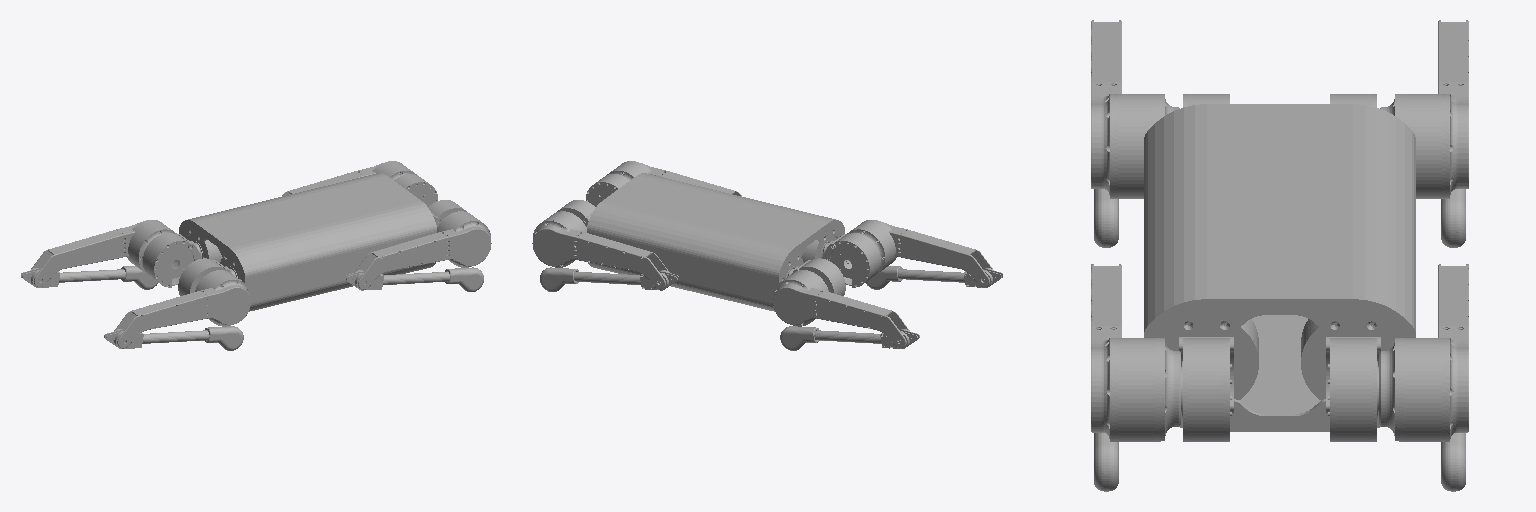
--- Facts derived from the render (not from the file) ---
Views: 3 orthographic renders of the robot side by side, from view 1: azimuth 30°, elevation 25°; view 2: azimuth 150°, elevation 25°; view 3: azimuth 270°, elevation 25°.
Model Nomad with 25 links and 24 joints (12 continuous, 12 fixed), rooted at base_link, posed all joints at 0.
Visible links, largest first — view 1: base_link, upper_leg_RR_link1, upper_leg_FR_link1, upper_leg_RL_link1, hfe_RL_link1, lower_leg_RL_link1, lower_leg_FR_link1, lower_leg_RR_link1, kfe_RL_link1, hfe_RR_link1, hfe_FL_link1, foot_RR1 (+2 smaller); view 2: base_link, upper_leg_RL_link1, upper_leg_FL_link1, upper_leg_RR_link1, hfe_RR_link1, lower_leg_RR_link1, lower_leg_FL_link1, lower_leg_RL_link1, kfe_RR_link1, hfe_RL_link1, hfe_FR_link1, foot_RL1 (+2 smaller); view 3: base_link, kfe_FL_link1, kfe_FR_link1, hfe_FL_link1, hfe_FR_link1, upper_leg_RL_link1, upper_leg_RR_link1, upper_leg_FL_link1, upper_leg_FR_link1, kfe_RL_link1, kfe_RR_link1, haa_FR_link1 (+5 smaller).
Boxes of the visible links, box(x1,y1,x2,y2) form: base_link: box(179, 173, 436, 311); upper_leg_RR_link1: box(114, 279, 250, 348); upper_leg_FR_link1: box(354, 220, 491, 289); upper_leg_RL_link1: box(31, 220, 161, 286); hfe_RL_link1: box(143, 233, 200, 287); lower_leg_RL_link1: box(21, 268, 125, 287); lower_leg_FR_link1: box(345, 270, 449, 290); lower_leg_RR_link1: box(104, 329, 209, 348); kfe_RL_link1: box(128, 220, 176, 273); hfe_RR_link1: box(178, 258, 235, 295); hfe_FL_link1: box(394, 174, 437, 206); foot_RR1: box(205, 326, 243, 350); base_link: box(587, 173, 844, 311); upper_leg_RL_link1: box(773, 279, 909, 348); upper_leg_FL_link1: box(532, 220, 669, 289); upper_leg_RR_link1: box(862, 220, 992, 286); hfe_RR_link1: box(823, 233, 880, 287); lower_leg_RR_link1: box(898, 268, 1002, 287); lower_leg_FL_link1: box(574, 270, 678, 290); lower_leg_RL_link1: box(814, 329, 919, 348); kfe_RR_link1: box(847, 220, 895, 273); hfe_RL_link1: box(788, 258, 845, 295); hfe_FR_link1: box(586, 174, 629, 206); foot_RL1: box(780, 326, 818, 350); base_link: box(1144, 104, 1415, 431); kfe_FL_link1: box(1379, 338, 1445, 441); kfe_FR_link1: box(1114, 338, 1180, 441); hfe_FL_link1: box(1326, 337, 1380, 441); hfe_FR_link1: box(1179, 337, 1233, 441); upper_leg_RL_link1: box(1438, 20, 1468, 198); upper_leg_RR_link1: box(1091, 20, 1121, 198); upper_leg_FL_link1: box(1438, 264, 1468, 441); upper_leg_FR_link1: box(1091, 264, 1121, 441); kfe_RL_link1: box(1380, 94, 1445, 198); kfe_RR_link1: box(1114, 94, 1179, 198); haa_FR_link1: box(1169, 319, 1258, 399).
Size in the robot's own frame: 0.8852 by 0.361 by 0.1722 metres.
Meshes: 25 distinct files referenced, 25 mesh visuals loaded (25 binary STL).

robot.urdf — Nomad:
<?xml version="1.0" ?>
<robot name="Nomad">

<material name="silver">
  <color rgba="0.700 0.700 0.700 1.000"/>
</material>

<link name="base_link">
  <inertial>
    <origin rpy="0 0 0" xyz="0.22000000000000136 6.474201759937558e-16 -1.4511141875722118e-16"/>
    <mass value="2.199913990617033"/>
    <inertia ixx="0.024540687238520258" ixy="2.976230462081749e-16" ixz="6.335540092550173e-17" iyy="0.058446211097636744" iyz="-6.2864273786545e-17" izz="0.06916812540146265"/>
  </inertial>
  <visual>
    <origin rpy="0 0 0" xyz="0 0 0"/>
    <geometry>
      <mesh filename="meshes/base_link.stl" scale="0.001 0.001 0.001"/>
    </geometry>
    <material name="silver"/>
  </visual>
  <collision>
    <origin rpy="0 0 0" xyz="0 0 0"/>
    <geometry>
      <mesh filename="meshes/base_link.stl" scale="0.001 0.001 0.001"/>
    </geometry>
  </collision>
</link>

<link name="hfe_FL_link1">
  <inertial>
    <origin rpy="0 0 0" xyz="0.04837811944868137 0.004377456626079371 0.00042958181475172464"/>
    <mass value="0.2875872093499024"/>
    <inertia ixx="0.00028035492431676724" ixy="-1.2113045801185121e-05" ixz="-1.1887313311722124e-06" iyy="0.00047388103986391317" iyz="3.0511493607548857e-06" izz="0.00036132170347868975"/>
  </inertial>
  <visual>
    <origin rpy="0 0 0" xyz="-0.437 -0.07 -0.0"/>
    <geometry>
      <mesh filename="meshes/hfe_FL_link1.stl" scale="0.001 0.001 0.001"/>
    </geometry>
    <material name="silver"/>
  </visual>
  <collision>
    <origin rpy="0 0 0" xyz="-0.437 -0.07 -0.0"/>
    <geometry>
      <mesh filename="meshes/hfe_FL_link1.stl" scale="0.001 0.001 0.001"/>
    </geometry>
  </collision>
</link>

<link name="hfe_FR_link1">
  <inertial>
    <origin rpy="0 0 0" xyz="0.048378119448682644 -0.004377456626069198 0.0004295818147517494"/>
    <mass value="0.28758720934990234"/>
    <inertia ixx="0.00028035492431676095" ixy="1.2113045801145222e-05" ixz="-1.1887313311704505e-06" iyy="0.00047388103986391317" iyz="-3.0511493607544283e-06" izz="0.000361321703478662"/>
  </inertial>
  <visual>
    <origin rpy="0 0 0" xyz="-0.437 0.07 -0.0"/>
    <geometry>
      <mesh filename="meshes/hfe_FR_link1.stl" scale="0.001 0.001 0.001"/>
    </geometry>
    <material name="silver"/>
  </visual>
  <collision>
    <origin rpy="0 0 0" xyz="-0.437 0.07 -0.0"/>
    <geometry>
      <mesh filename="meshes/hfe_FR_link1.stl" scale="0.001 0.001 0.001"/>
    </geometry>
  </collision>
</link>

<link name="hfe_RL_link1">
  <inertial>
    <origin rpy="0 0 0" xyz="-0.04837811944868167 0.004377456626079482 0.000429581814751721"/>
    <mass value="0.28758720934990234"/>
    <inertia ixx="0.0002803549243167681" ixy="1.2113045801184362e-05" ixz="1.1887313311715788e-06" iyy="0.0004738810398638944" iyz="3.0511493607541996e-06" izz="0.00036132170347864985"/>
  </inertial>
  <visual>
    <origin rpy="0 0 0" xyz="-0.003 -0.07 -0.0"/>
    <geometry>
      <mesh filename="meshes/hfe_RL_link1.stl" scale="0.001 0.001 0.001"/>
    </geometry>
    <material name="silver"/>
  </visual>
  <collision>
    <origin rpy="0 0 0" xyz="-0.003 -0.07 -0.0"/>
    <geometry>
      <mesh filename="meshes/hfe_RL_link1.stl" scale="0.001 0.001 0.001"/>
    </geometry>
  </collision>
</link>

<link name="hfe_RR_link1">
  <inertial>
    <origin rpy="0 0 0" xyz="-0.048378119448681915 -0.004377456626079287 0.00042958181475161167"/>
    <mass value="0.2875872093499024"/>
    <inertia ixx="0.00028035492431676616" ixy="-1.2113045801184254e-05" ixz="1.1887313311717406e-06" iyy="0.00047388103986389224" iyz="-3.051149360754774e-06" izz="0.00036132170347864465"/>
  </inertial>
  <visual>
    <origin rpy="0 0 0" xyz="-0.003 0.07 -0.0"/>
    <geometry>
      <mesh filename="meshes/hfe_RR_link1.stl" scale="0.001 0.001 0.001"/>
    </geometry>
    <material name="silver"/>
  </visual>
  <collision>
    <origin rpy="0 0 0" xyz="-0.003 0.07 -0.0"/>
    <geometry>
      <mesh filename="meshes/hfe_RR_link1.stl" scale="0.001 0.001 0.001"/>
    </geometry>
  </collision>
</link>

<link name="kfe_FL_link1">
  <inertial>
    <origin rpy="0 0 0" xyz="-4.294509414748404e-09 0.03773393377276327 0.002519589484959846"/>
    <mass value="0.30243979231772933"/>
    <inertia ixx="0.0003497304817030901" ixy="-1.282339859298709e-11" ixz="-4.266157636574966e-11" iyy="0.00043307576818708837" iyz="1.8640860725916198e-05" izz="0.000375943096624462"/>
  </inertial>
  <visual>
    <origin rpy="0 0 0" xyz="-0.495 -0.0945 -0.0"/>
    <geometry>
      <mesh filename="meshes/kfe_FL_link1.stl" scale="0.001 0.001 0.001"/>
    </geometry>
    <material name="silver"/>
  </visual>
  <collision>
    <origin rpy="0 0 0" xyz="-0.495 -0.0945 -0.0"/>
    <geometry>
      <mesh filename="meshes/kfe_FL_link1.stl" scale="0.001 0.001 0.001"/>
    </geometry>
  </collision>
</link>

<link name="kfe_RL_link1">
  <inertial>
    <origin rpy="0 0 0" xyz="-4.29448054201087e-09 0.03773393377276335 0.002519589484959765"/>
    <mass value="0.30243979231772933"/>
    <inertia ixx="0.00034973048170309183" ixy="-1.2823362597474963e-11" ixz="-4.266156855949402e-11" iyy="0.00043307576818707536" iyz="1.8640860725916143e-05" izz="0.00037594309662444293"/>
  </inertial>
  <visual>
    <origin rpy="0 0 0" xyz="0.055 -0.0945 0.0"/>
    <geometry>
      <mesh filename="meshes/kfe_RL_link1.stl" scale="0.001 0.001 0.001"/>
    </geometry>
    <material name="silver"/>
  </visual>
  <collision>
    <origin rpy="0 0 0" xyz="0.055 -0.0945 0.0"/>
    <geometry>
      <mesh filename="meshes/kfe_RL_link1.stl" scale="0.001 0.001 0.001"/>
    </geometry>
  </collision>
</link>

<link name="kfe_RR_link1">
  <inertial>
    <origin rpy="0 0 0" xyz="-2.412151062225476e-09 -0.037733893842588156 0.0025195550596708045"/>
    <mass value="0.30244037793017975"/>
    <inertia ixx="0.00034973125766345724" ixy="3.02635867754919e-12" ixz="-4.464371430992547e-11" iyy="0.0004330769667441327" iyz="-1.8640648087141513e-05" izz="0.0003759440161624191"/>
  </inertial>
  <visual>
    <origin rpy="0 0 0" xyz="0.055 0.0945 0.0"/>
    <geometry>
      <mesh filename="meshes/kfe_RR_link1.stl" scale="0.001 0.001 0.001"/>
    </geometry>
    <material name="silver"/>
  </visual>
  <collision>
    <origin rpy="0 0 0" xyz="0.055 0.0945 0.0"/>
    <geometry>
      <mesh filename="meshes/kfe_RR_link1.stl" scale="0.001 0.001 0.001"/>
    </geometry>
  </collision>
</link>

<link name="kfe_FR_link1">
  <inertial>
    <origin rpy="0 0 0" xyz="-2.4121666886145476e-09 -0.03773389384257603 0.0025195550596710083"/>
    <mass value="0.30244037793017975"/>
    <inertia ixx="0.00034973125766345117" ixy="3.026377759507426e-12" ixz="-4.464371824693461e-11" iyy="0.0004330769667441198" iyz="-1.8640648087142083e-05" izz="0.00037594401616238005"/>
  </inertial>
  <visual>
    <origin rpy="0 0 0" xyz="-0.495 0.0945 -0.0"/>
    <geometry>
      <mesh filename="meshes/kfe_FR_link1.stl" scale="0.001 0.001 0.001"/>
    </geometry>
    <material name="silver"/>
  </visual>
  <collision>
    <origin rpy="0 0 0" xyz="-0.495 0.0945 -0.0"/>
    <geometry>
      <mesh filename="meshes/kfe_FR_link1.stl" scale="0.001 0.001 0.001"/>
    </geometry>
  </collision>
</link>

<link name="upper_leg_FL_link1">
  <inertial>
    <origin rpy="0 0 0" xyz="-0.09245282024220741 0.008509257496139039 0.007352742155619165"/>
    <mass value="0.28719650938086905"/>
    <inertia ixx="0.00017089800270464993" ixy="-3.85577543140711e-05" ixz="3.801746306691673e-05" iyy="0.0020438269196165967" iyz="2.0596488784542792e-06" izz="0.0019434884605858752"/>
  </inertial>
  <visual>
    <origin rpy="0 0 0" xyz="-0.495 -0.1585 0.0"/>
    <geometry>
      <mesh filename="meshes/upper_leg_FL_link1.stl" scale="0.001 0.001 0.001"/>
    </geometry>
    <material name="silver"/>
  </visual>
  <collision>
    <origin rpy="0 0 0" xyz="-0.495 -0.1585 0.0"/>
    <geometry>
      <mesh filename="meshes/upper_leg_FL_link1.stl" scale="0.001 0.001 0.001"/>
    </geometry>
  </collision>
</link>

<link name="upper_leg_RL_link1">
  <inertial>
    <origin rpy="0 0 0" xyz="-0.09245282024215762 0.008509257496255862 0.007352742155619182"/>
    <mass value="0.28719650938086905"/>
    <inertia ixx="0.00017089800270454931" ixy="-3.855775431170407e-05" ixz="3.801746306691955e-05" iyy="0.0020438269196166904" iyz="2.059648878406466e-06" izz="0.0019434884605858647"/>
  </inertial>
  <visual>
    <origin rpy="0 0 0" xyz="0.055 -0.1585 -0.0"/>
    <geometry>
      <mesh filename="meshes/upper_leg_RL_link1.stl" scale="0.001 0.001 0.001"/>
    </geometry>
    <material name="silver"/>
  </visual>
  <collision>
    <origin rpy="0 0 0" xyz="0.055 -0.1585 -0.0"/>
    <geometry>
      <mesh filename="meshes/upper_leg_RL_link1.stl" scale="0.001 0.001 0.001"/>
    </geometry>
  </collision>
</link>

<link name="upper_leg_RR_link1">
  <inertial>
    <origin rpy="0 0 0" xyz="-0.09245274297568468 -0.008509288573373935 0.007351582415994544"/>
    <mass value="0.28719862886504943"/>
    <inertia ixx="0.00017097431453656949" ixy="3.8557824518435126e-05" ixz="3.80093216803399e-05" iyy="0.002043934929616572" iyz="-2.0611346655847063e-06" izz="0.0019435203664807579"/>
  </inertial>
  <visual>
    <origin rpy="0 0 0" xyz="0.055 0.1585 0.0"/>
    <geometry>
      <mesh filename="meshes/upper_leg_RR_link1.stl" scale="0.001 0.001 0.001"/>
    </geometry>
    <material name="silver"/>
  </visual>
  <collision>
    <origin rpy="0 0 0" xyz="0.055 0.1585 0.0"/>
    <geometry>
      <mesh filename="meshes/upper_leg_RR_link1.stl" scale="0.001 0.001 0.001"/>
    </geometry>
  </collision>
</link>

<link name="upper_leg_FR_link1">
  <inertial>
    <origin rpy="0 0 0" xyz="-0.09245274297570916 -0.008509288573324308 0.007351582415994245"/>
    <mass value="0.28719862886504943"/>
    <inertia ixx="0.00017097431453659898" ixy="3.8557824519207945e-05" ixz="3.80093216803386e-05" iyy="0.0020439349296165338" iyz="-2.0611346656004273e-06" izz="0.0019435203664807527"/>
  </inertial>
  <visual>
    <origin rpy="0 0 0" xyz="-0.495 0.1585 0.0"/>
    <geometry>
      <mesh filename="meshes/upper_leg_FR_link1.stl" scale="0.001 0.001 0.001"/>
    </geometry>
    <material name="silver"/>
  </visual>
  <collision>
    <origin rpy="0 0 0" xyz="-0.495 0.1585 0.0"/>
    <geometry>
      <mesh filename="meshes/upper_leg_FR_link1.stl" scale="0.001 0.001 0.001"/>
    </geometry>
  </collision>
</link>

<link name="lower_leg_FL_link1">
  <inertial>
    <origin rpy="0 0 0" xyz="0.03768917866084845 0.010859669260576715 -0.008756414766798302"/>
    <mass value="0.10027511378483192"/>
    <inertia ixx="2.4257456964952174e-05" ixy="-1.7649493646351017e-07" ixz="6.0654005374095096e-05" iyy="0.00034828592771582456" iyz="2.3843216718057517e-08" izz="0.0003325569543160944"/>
  </inertial>
  <visual>
    <origin rpy="0 0 0" xyz="-0.245723 -0.1545 0.019"/>
    <geometry>
      <mesh filename="meshes/lower_leg_FL_link1.stl" scale="0.001 0.001 0.001"/>
    </geometry>
    <material name="silver"/>
  </visual>
  <collision>
    <origin rpy="0 0 0" xyz="-0.245723 -0.1545 0.019"/>
    <geometry>
      <mesh filename="meshes/lower_leg_FL_link1.stl" scale="0.001 0.001 0.001"/>
    </geometry>
  </collision>
</link>

<link name="lower_leg_RL_link1">
  <inertial>
    <origin rpy="0 0 0" xyz="0.03768917866091476 0.010859669260778582 -0.008756414766798407"/>
    <mass value="0.10027511378483192"/>
    <inertia ixx="2.4257456964946536e-05" ixy="-1.7649493548946293e-07" ixz="6.0654005374095204e-05" iyy="0.00034828592771582803" iyz="2.384321653574892e-08" izz="0.0003325569543160961"/>
  </inertial>
  <visual>
    <origin rpy="0 0 0" xyz="0.304277 -0.1545 0.019"/>
    <geometry>
      <mesh filename="meshes/lower_leg_RL_link1.stl" scale="0.001 0.001 0.001"/>
    </geometry>
    <material name="silver"/>
  </visual>
  <collision>
    <origin rpy="0 0 0" xyz="0.304277 -0.1545 0.019"/>
    <geometry>
      <mesh filename="meshes/lower_leg_RL_link1.stl" scale="0.001 0.001 0.001"/>
    </geometry>
  </collision>
</link>

<link name="lower_leg_FR_link1">
  <inertial>
    <origin rpy="0 0 0" xyz="0.037689178660886086 -0.011140330739316723 -0.008756414766798285"/>
    <mass value="0.10027511378483192"/>
    <inertia ixx="2.425745696495044e-05" ixy="-1.764949357644166e-07" ixz="6.0654005374094553e-05" iyy="0.00034828592771582977" iyz="2.3843216587356945e-08" izz="0.0003325569543160944"/>
  </inertial>
  <visual>
    <origin rpy="0 0 0" xyz="-0.245723 0.1545 0.019"/>
    <geometry>
      <mesh filename="meshes/lower_leg_FR_link1.stl" scale="0.001 0.001 0.001"/>
    </geometry>
    <material name="silver"/>
  </visual>
  <collision>
    <origin rpy="0 0 0" xyz="-0.245723 0.1545 0.019"/>
    <geometry>
      <mesh filename="meshes/lower_leg_FR_link1.stl" scale="0.001 0.001 0.001"/>
    </geometry>
  </collision>
</link>

<link name="lower_leg_RR_link1">
  <inertial>
    <origin rpy="0 0 0" xyz="0.03768917866091659 -0.011140330739393495 -0.00875641476679826"/>
    <mass value="0.10027511378483192"/>
    <inertia ixx="2.425745696494697e-05" ixy="-1.7649493608273836e-07" ixz="6.0654005374094553e-05" iyy="0.00034828592771582456" iyz="2.3843216646717014e-08" izz="0.00033255695431609264"/>
  </inertial>
  <visual>
    <origin rpy="0 0 0" xyz="0.304277 0.1545 0.019"/>
    <geometry>
      <mesh filename="meshes/lower_leg_RR_link1.stl" scale="0.001 0.001 0.001"/>
    </geometry>
    <material name="silver"/>
  </visual>
  <collision>
    <origin rpy="0 0 0" xyz="0.304277 0.1545 0.019"/>
    <geometry>
      <mesh filename="meshes/lower_leg_RR_link1.stl" scale="0.001 0.001 0.001"/>
    </geometry>
  </collision>
</link>

<link name="haa_FR_link1">
  <inertial>
    <origin rpy="0 0 0" xyz="-0.016983261704377528 8.790073738329518e-09 0.0005413876110014399"/>
    <mass value="0.22819661408568134"/>
    <inertia ixx="0.000337396201269129" ixy="4.8251645734520565e-11" ixz="3.1919090569474247e-06" iyy="0.00022867987683110325" iyz="1.0859537874925154e-12" izz="0.0002340324473857694"/>
  </inertial>
  <visual>
    <origin rpy="0 0 0" xyz="-0.435 0.07 -0.0"/>
    <geometry>
      <mesh filename="meshes/haa_FR_link1.stl" scale="0.001 0.001 0.001"/>
    </geometry>
    <material name="silver"/>
  </visual>
  <collision>
    <origin rpy="0 0 0" xyz="-0.435 0.07 -0.0"/>
    <geometry>
      <mesh filename="meshes/haa_FR_link1.stl" scale="0.001 0.001 0.001"/>
    </geometry>
  </collision>
</link>

<link name="haa_FL_link1">
  <inertial>
    <origin rpy="0 0 0" xyz="-0.01698326170437736 8.790073710573942e-09 0.000541387611001353"/>
    <mass value="0.22819661408568134"/>
    <inertia ixx="0.0003373962012691303" ixy="4.825164833660578e-11" ixz="3.1919090569474247e-06" iyy="0.00022867987683111018" iyz="1.0859537891865813e-12" izz="0.00023403244738575552"/>
  </inertial>
  <visual>
    <origin rpy="0 0 0" xyz="-0.435 -0.07 -0.0"/>
    <geometry>
      <mesh filename="meshes/haa_FL_link1.stl" scale="0.001 0.001 0.001"/>
    </geometry>
    <material name="silver"/>
  </visual>
  <collision>
    <origin rpy="0 0 0" xyz="-0.435 -0.07 -0.0"/>
    <geometry>
      <mesh filename="meshes/haa_FL_link1.stl" scale="0.001 0.001 0.001"/>
    </geometry>
  </collision>
</link>

<link name="haa_RL_link1">
  <inertial>
    <origin rpy="0 0 0" xyz="0.016983261704377323 -8.790073710573942e-09 0.0005413876110013534"/>
    <mass value="0.22819661408568134"/>
    <inertia ixx="0.0003373962012691307" ixy="4.825164752345415e-11" ixz="-3.1919090569474293e-06" iyy="0.00022867987683109514" iyz="-1.0859537874925154e-12" izz="0.00023403244738576007"/>
  </inertial>
  <visual>
    <origin rpy="0 0 0" xyz="-0.005 -0.07 -0.0"/>
    <geometry>
      <mesh filename="meshes/haa_RL_link1.stl" scale="0.001 0.001 0.001"/>
    </geometry>
    <material name="silver"/>
  </visual>
  <collision>
    <origin rpy="0 0 0" xyz="-0.005 -0.07 -0.0"/>
    <geometry>
      <mesh filename="meshes/haa_RL_link1.stl" scale="0.001 0.001 0.001"/>
    </geometry>
  </collision>
</link>

<link name="haa_RR_link1">
  <inertial>
    <origin rpy="0 0 0" xyz="0.01698326170437754 -8.790073710573942e-09 0.0005413876110013454"/>
    <mass value="0.22819661408568134"/>
    <inertia ixx="0.0003373962012691303" ixy="4.825164757766426e-11" ixz="-3.1919090569474276e-06" iyy="0.00022867987683109506" iyz="-1.0859537908806472e-12" izz="0.00023403244738575985"/>
  </inertial>
  <visual>
    <origin rpy="0 0 0" xyz="-0.005 0.07 -0.0"/>
    <geometry>
      <mesh filename="meshes/haa_RR_link1.stl" scale="0.001 0.001 0.001"/>
    </geometry>
    <material name="silver"/>
  </visual>
  <collision>
    <origin rpy="0 0 0" xyz="-0.005 0.07 -0.0"/>
    <geometry>
      <mesh filename="meshes/haa_RR_link1.stl" scale="0.001 0.001 0.001"/>
    </geometry>
  </collision>
</link>

<link name="foot_FL1">
  <inertial>
    <origin rpy="0 0 0" xyz="0.02133983534410533 4.2837955405161665e-13 -0.010597580994673915"/>
    <mass value="0.07686399002843429"/>
    <inertia ixx="1.739369906263036e-05" ixy="2.0556473190325164e-16" ixz="9.198075480345257e-06" iyy="4.3907602882892194e-05" iyz="-7.968885967768458e-17" izz="3.326675381602057e-05"/>
  </inertial>
  <visual>
    <origin rpy="0 0 0" xyz="-0.466729 -0.1655 0.061283"/>
    <geometry>
      <mesh filename="meshes/foot_FL1.stl" scale="0.001 0.001 0.001"/>
    </geometry>
    <material name="silver"/>
  </visual>
  <collision>
    <origin rpy="0 0 0" xyz="-0.466729 -0.1655 0.061283"/>
    <geometry>
      <mesh filename="meshes/foot_FL1.stl" scale="0.001 0.001 0.001"/>
    </geometry>
  </collision>
</link>

<link name="foot_FR1">
  <inertial>
    <origin rpy="0 0 0" xyz="0.021339835344143687 1.4790946245568648e-13 -0.010597580994673943"/>
    <mass value="0.07686399002843429"/>
    <inertia ixx="1.7393699062635565e-05" ixy="1.968911145233676e-16" ixz="9.198075480352196e-06" iyy="4.390760288290607e-05" iyz="-7.41594285980085e-17" izz="3.3266753816024036e-05"/>
  </inertial>
  <visual>
    <origin rpy="0 0 0" xyz="-0.466729 0.1655 0.061283"/>
    <geometry>
      <mesh filename="meshes/foot_FR1.stl" scale="0.001 0.001 0.001"/>
    </geometry>
    <material name="silver"/>
  </visual>
  <collision>
    <origin rpy="0 0 0" xyz="-0.466729 0.1655 0.061283"/>
    <geometry>
      <mesh filename="meshes/foot_FR1.stl" scale="0.001 0.001 0.001"/>
    </geometry>
  </collision>
</link>

<link name="foot_RR1">
  <inertial>
    <origin rpy="0 0 0" xyz="0.021339835344173594 2.4361068717837497e-13 -0.010597580994673582"/>
    <mass value="0.07686399002843429"/>
    <inertia ixx="1.7393699062630795e-05" ixy="2.0383000842727483e-16" ixz="9.198075480346883e-06" iyy="4.3907602882894904e-05" iyz="-7.795413620170777e-17" izz="3.326675381602057e-05"/>
  </inertial>
  <visual>
    <origin rpy="0 0 0" xyz="0.083271 0.1655 0.061283"/>
    <geometry>
      <mesh filename="meshes/foot_RR1.stl" scale="0.001 0.001 0.001"/>
    </geometry>
    <material name="silver"/>
  </visual>
  <collision>
    <origin rpy="0 0 0" xyz="0.083271 0.1655 0.061283"/>
    <geometry>
      <mesh filename="meshes/foot_RR1.stl" scale="0.001 0.001 0.001"/>
    </geometry>
  </collision>
</link>

<link name="foot_RL1">
  <inertial>
    <origin rpy="0 0 0" xyz="0.02133983534417249 9.239831122442865e-14 -0.010597580994674012"/>
    <mass value="0.07686399002843429"/>
    <inertia ixx="1.7393699062629494e-05" ixy="1.9103642279194588e-16" ixz="9.198075480345745e-06" iyy="4.390760288289089e-05" iyz="-7.036472099430924e-17" izz="3.3266753816021434e-05"/>
  </inertial>
  <visual>
    <origin rpy="0 0 0" xyz="0.083271 -0.1655 0.061283"/>
    <geometry>
      <mesh filename="meshes/foot_RL1.stl" scale="0.001 0.001 0.001"/>
    </geometry>
    <material name="silver"/>
  </visual>
  <collision>
    <origin rpy="0 0 0" xyz="0.083271 -0.1655 0.061283"/>
    <geometry>
      <mesh filename="meshes/foot_RL1.stl" scale="0.001 0.001 0.001"/>
    </geometry>
  </collision>
</link>

<joint name="haa_to_hfe_FL" type="continuous">
  <origin rpy="0 0 0" xyz="0.002 0.0 0.0"/>
  <parent link="haa_FL_link1"/>
  <child link="hfe_FL_link1"/>
  <axis xyz="1.0 0.0 0.0"/>
</joint>
<transmission name="haa_to_hfe_FL_tran">
  <type>transmission_interface/SimpleTransmission</type>
  <joint name="haa_to_hfe_FL">
    <hardwareInterface>PositionJointInterface</hardwareInterface>
  </joint>
  <actuator name="haa_to_hfe_FL_actr">
    <hardwareInterface>PositionJointInterface</hardwareInterface>
    <mechanicalReduction>1</mechanicalReduction>
  </actuator>
</transmission>

<joint name="haa_to_hfe_FR" type="continuous">
  <origin rpy="0 0 0" xyz="0.002 0.0 0.0"/>
  <parent link="haa_FR_link1"/>
  <child link="hfe_FR_link1"/>
  <axis xyz="1.0 0.0 0.0"/>
</joint>
<transmission name="haa_to_hfe_FR_tran">
  <type>transmission_interface/SimpleTransmission</type>
  <joint name="haa_to_hfe_FR">
    <hardwareInterface>PositionJointInterface</hardwareInterface>
  </joint>
  <actuator name="haa_to_hfe_FR_actr">
    <hardwareInterface>PositionJointInterface</hardwareInterface>
    <mechanicalReduction>1</mechanicalReduction>
  </actuator>
</transmission>

<joint name="haa_to_hfe_RL" type="continuous">
  <origin rpy="0 0 0" xyz="-0.002 0.0 0.0"/>
  <parent link="haa_RL_link1"/>
  <child link="hfe_RL_link1"/>
  <axis xyz="-1.0 -0.0 0.0"/>
</joint>
<transmission name="haa_to_hfe_RL_tran">
  <type>transmission_interface/SimpleTransmission</type>
  <joint name="haa_to_hfe_RL">
    <hardwareInterface>PositionJointInterface</hardwareInterface>
  </joint>
  <actuator name="haa_to_hfe_RL_actr">
    <hardwareInterface>PositionJointInterface</hardwareInterface>
    <mechanicalReduction>1</mechanicalReduction>
  </actuator>
</transmission>

<joint name="haa_to_hfe_RR" type="continuous">
  <origin rpy="0 0 0" xyz="-0.002 0.0 0.0"/>
  <parent link="haa_RR_link1"/>
  <child link="hfe_RR_link1"/>
  <axis xyz="-1.0 -0.0 0.0"/>
</joint>
<transmission name="haa_to_hfe_RR_tran">
  <type>transmission_interface/SimpleTransmission</type>
  <joint name="haa_to_hfe_RR">
    <hardwareInterface>PositionJointInterface</hardwareInterface>
  </joint>
  <actuator name="haa_to_hfe_RR_actr">
    <hardwareInterface>PositionJointInterface</hardwareInterface>
    <mechanicalReduction>1</mechanicalReduction>
  </actuator>
</transmission>

<joint name="hfe_to_kfe_FL" type="continuous">
  <origin rpy="0 0 0" xyz="0.058 0.0245 0.0"/>
  <parent link="hfe_FL_link1"/>
  <child link="kfe_FL_link1"/>
  <axis xyz="-0.0 1.0 0.0"/>
</joint>
<transmission name="hfe_to_kfe_FL_tran">
  <type>transmission_interface/SimpleTransmission</type>
  <joint name="hfe_to_kfe_FL">
    <hardwareInterface>PositionJointInterface</hardwareInterface>
  </joint>
  <actuator name="hfe_to_kfe_FL_actr">
    <hardwareInterface>PositionJointInterface</hardwareInterface>
    <mechanicalReduction>1</mechanicalReduction>
  </actuator>
</transmission>

<joint name="hfe_to_kfe_RL" type="continuous">
  <origin rpy="0 0 0" xyz="-0.058 0.0245 -0.0"/>
  <parent link="hfe_RL_link1"/>
  <child link="kfe_RL_link1"/>
  <axis xyz="-0.0 -1.0 0.0"/>
</joint>
<transmission name="hfe_to_kfe_RL_tran">
  <type>transmission_interface/SimpleTransmission</type>
  <joint name="hfe_to_kfe_RL">
    <hardwareInterface>PositionJointInterface</hardwareInterface>
  </joint>
  <actuator name="hfe_to_kfe_RL_actr">
    <hardwareInterface>PositionJointInterface</hardwareInterface>
    <mechanicalReduction>1</mechanicalReduction>
  </actuator>
</transmission>

<joint name="hfe_to_kfe_RR" type="continuous">
  <origin rpy="0 0 0" xyz="-0.058 -0.0245 -0.0"/>
  <parent link="hfe_RR_link1"/>
  <child link="kfe_RR_link1"/>
  <axis xyz="0.0 -1.0 0.0"/>
</joint>
<transmission name="hfe_to_kfe_RR_tran">
  <type>transmission_interface/SimpleTransmission</type>
  <joint name="hfe_to_kfe_RR">
    <hardwareInterface>PositionJointInterface</hardwareInterface>
  </joint>
  <actuator name="hfe_to_kfe_RR_actr">
    <hardwareInterface>PositionJointInterface</hardwareInterface>
    <mechanicalReduction>1</mechanicalReduction>
  </actuator>
</transmission>

<joint name="hfe_to_kfe_FR" type="continuous">
  <origin rpy="0 0 0" xyz="0.058 -0.0245 0.0"/>
  <parent link="hfe_FR_link1"/>
  <child link="kfe_FR_link1"/>
  <axis xyz="0.0 1.0 0.0"/>
</joint>
<transmission name="hfe_to_kfe_FR_tran">
  <type>transmission_interface/SimpleTransmission</type>
  <joint name="hfe_to_kfe_FR">
    <hardwareInterface>PositionJointInterface</hardwareInterface>
  </joint>
  <actuator name="hfe_to_kfe_FR_actr">
    <hardwareInterface>PositionJointInterface</hardwareInterface>
    <mechanicalReduction>1</mechanicalReduction>
  </actuator>
</transmission>

<joint name="hfe_to_upper_leg_FL" type="fixed">
  <origin rpy="0 0 0" xyz="0.0 0.064 -0.0"/>
  <parent link="kfe_FL_link1"/>
  <child link="upper_leg_FL_link1"/>
</joint>

<joint name="hfe_to_upper_leg_RL" type="fixed">
  <origin rpy="0 0 0" xyz="0.0 0.064 0.0"/>
  <parent link="kfe_RL_link1"/>
  <child link="upper_leg_RL_link1"/>
</joint>

<joint name="hfe_to_upper_leg_RR" type="fixed">
  <origin rpy="0 0 0" xyz="0.0 -0.064 0.0"/>
  <parent link="kfe_RR_link1"/>
  <child link="upper_leg_RR_link1"/>
</joint>

<joint name="hfe_to_upper_leg_FR" type="fixed">
  <origin rpy="0 0 0" xyz="0.0 -0.064 -0.0"/>
  <parent link="kfe_FR_link1"/>
  <child link="upper_leg_FR_link1"/>
</joint>

<joint name="upper_leg_to_lower_leg_FL" type="continuous">
  <origin rpy="0 0 0" xyz="-0.249277 -0.004 -0.019"/>
  <parent link="upper_leg_FL_link1"/>
  <child link="lower_leg_FL_link1"/>
  <axis xyz="0.0 -1.0 0.0"/>
</joint>
<transmission name="upper_leg_to_lower_leg_FL_tran">
  <type>transmission_interface/SimpleTransmission</type>
  <joint name="upper_leg_to_lower_leg_FL">
    <hardwareInterface>PositionJointInterface</hardwareInterface>
  </joint>
  <actuator name="upper_leg_to_lower_leg_FL_actr">
    <hardwareInterface>PositionJointInterface</hardwareInterface>
    <mechanicalReduction>1</mechanicalReduction>
  </actuator>
</transmission>

<joint name="upper_leg_to_lower_leg_RL" type="continuous">
  <origin rpy="0 0 0" xyz="-0.249277 -0.004 -0.019"/>
  <parent link="upper_leg_RL_link1"/>
  <child link="lower_leg_RL_link1"/>
  <axis xyz="-0.0 -1.0 0.0"/>
</joint>
<transmission name="upper_leg_to_lower_leg_RL_tran">
  <type>transmission_interface/SimpleTransmission</type>
  <joint name="upper_leg_to_lower_leg_RL">
    <hardwareInterface>PositionJointInterface</hardwareInterface>
  </joint>
  <actuator name="upper_leg_to_lower_leg_RL_actr">
    <hardwareInterface>PositionJointInterface</hardwareInterface>
    <mechanicalReduction>1</mechanicalReduction>
  </actuator>
</transmission>

<joint name="upper_leg_to_lower_leg_FR" type="continuous">
  <origin rpy="0 0 0" xyz="-0.249277 0.004 -0.019"/>
  <parent link="upper_leg_FR_link1"/>
  <child link="lower_leg_FR_link1"/>
  <axis xyz="-0.0 -1.0 -0.0"/>
</joint>
<transmission name="upper_leg_to_lower_leg_FR_tran">
  <type>transmission_interface/SimpleTransmission</type>
  <joint name="upper_leg_to_lower_leg_FR">
    <hardwareInterface>PositionJointInterface</hardwareInterface>
  </joint>
  <actuator name="upper_leg_to_lower_leg_FR_actr">
    <hardwareInterface>PositionJointInterface</hardwareInterface>
    <mechanicalReduction>1</mechanicalReduction>
  </actuator>
</transmission>

<joint name="upper_leg_to_lower_leg_RR" type="continuous">
  <origin rpy="0 0 0" xyz="-0.249277 0.004 -0.019"/>
  <parent link="upper_leg_RR_link1"/>
  <child link="lower_leg_RR_link1"/>
  <axis xyz="0.0 -1.0 -0.0"/>
</joint>
<transmission name="upper_leg_to_lower_leg_RR_tran">
  <type>transmission_interface/SimpleTransmission</type>
  <joint name="upper_leg_to_lower_leg_RR">
    <hardwareInterface>PositionJointInterface</hardwareInterface>
  </joint>
  <actuator name="upper_leg_to_lower_leg_RR_actr">
    <hardwareInterface>PositionJointInterface</hardwareInterface>
    <mechanicalReduction>1</mechanicalReduction>
  </actuator>
</transmission>

<joint name="base_link_haa_FR" type="fixed">
  <origin rpy="0 0 0" xyz="0.435 -0.07 0.0"/>
  <parent link="base_link"/>
  <child link="haa_FR_link1"/>
</joint>

<joint name="base_link_haa_FL" type="fixed">
  <origin rpy="0 0 0" xyz="0.435 0.07 0.0"/>
  <parent link="base_link"/>
  <child link="haa_FL_link1"/>
</joint>

<joint name="base_link_haa_RL" type="fixed">
  <origin rpy="0 0 0" xyz="0.005 0.07 0.0"/>
  <parent link="base_link"/>
  <child link="haa_RL_link1"/>
</joint>

<joint name="base_link_haa_RR" type="fixed">
  <origin rpy="0 0 0" xyz="0.005 -0.07 0.0"/>
  <parent link="base_link"/>
  <child link="haa_RR_link1"/>
</joint>

<joint name="knee_to_foot_FL" type="fixed">
  <origin rpy="0 0 0" xyz="0.221006 0.011 -0.042283"/>
  <parent link="lower_leg_FL_link1"/>
  <child link="foot_FL1"/>
</joint>

<joint name="knee_to_foot_FR" type="fixed">
  <origin rpy="0 0 0" xyz="0.221006 -0.011 -0.042283"/>
  <parent link="lower_leg_FR_link1"/>
  <child link="foot_FR1"/>
</joint>

<joint name="knee_to_foot_RR" type="fixed">
  <origin rpy="0 0 0" xyz="0.221006 -0.011 -0.042283"/>
  <parent link="lower_leg_RR_link1"/>
  <child link="foot_RR1"/>
</joint>

<joint name="knee_to_foot_RL" type="fixed">
  <origin rpy="0 0 0" xyz="0.221006 0.011 -0.042283"/>
  <parent link="lower_leg_RL_link1"/>
  <child link="foot_RL1"/>
</joint>

</robot>
